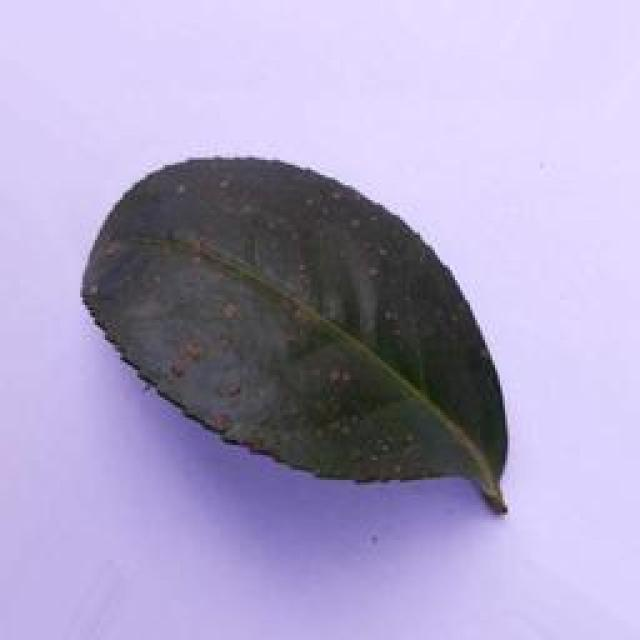Algal Leaf Spot: (84, 147, 518, 532)
